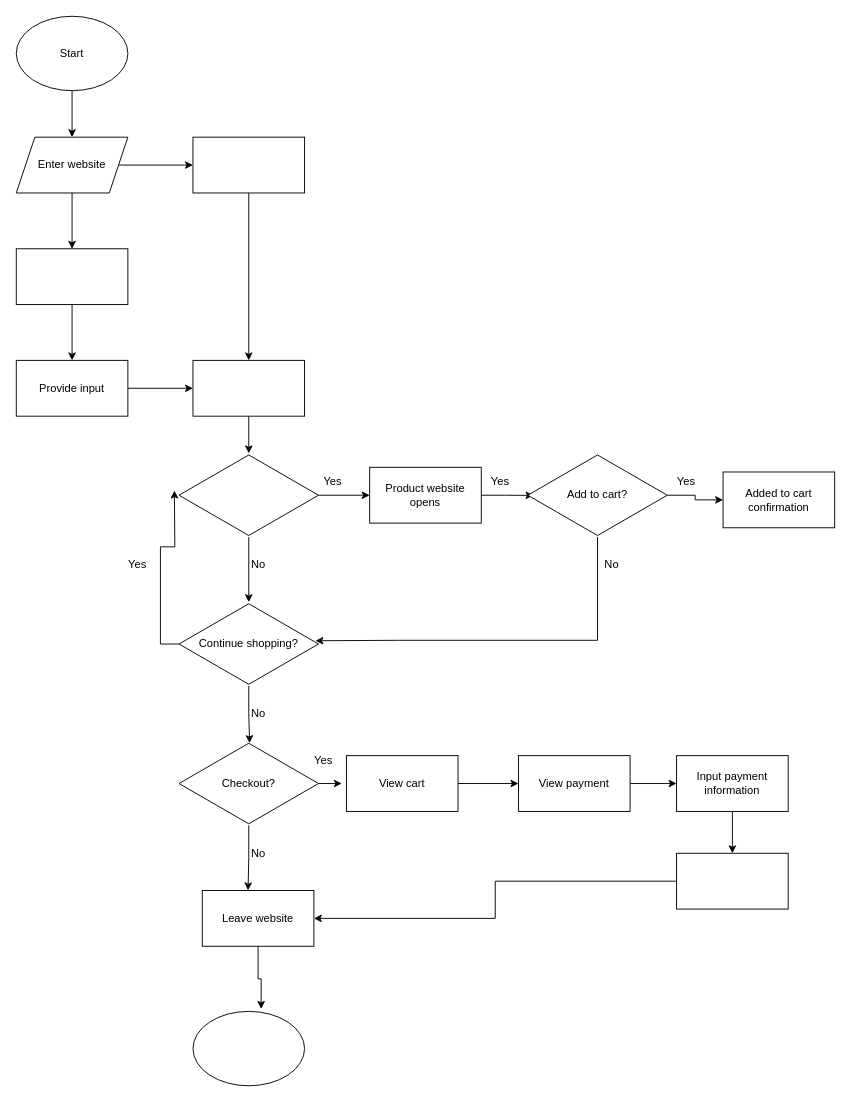
This 851x1102 diagram has some shape labels left out. Each missing label, with the centre of its shape:
Begin looking over products: (248,387)
End: (248,1048)
Explore products: (248,164)
Order confirmation and email sent: (732,880)
Search for product: (71,276)
View specific product?: (248,494)
